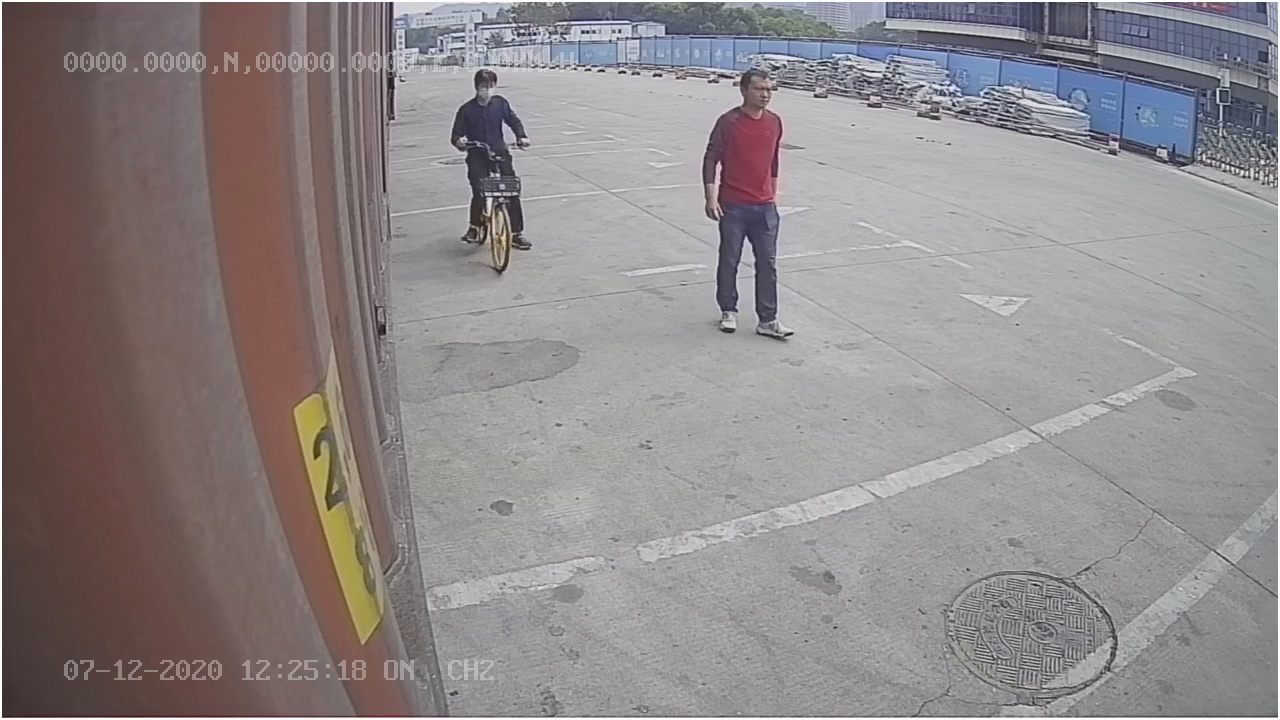person: (699, 65, 799, 345)
